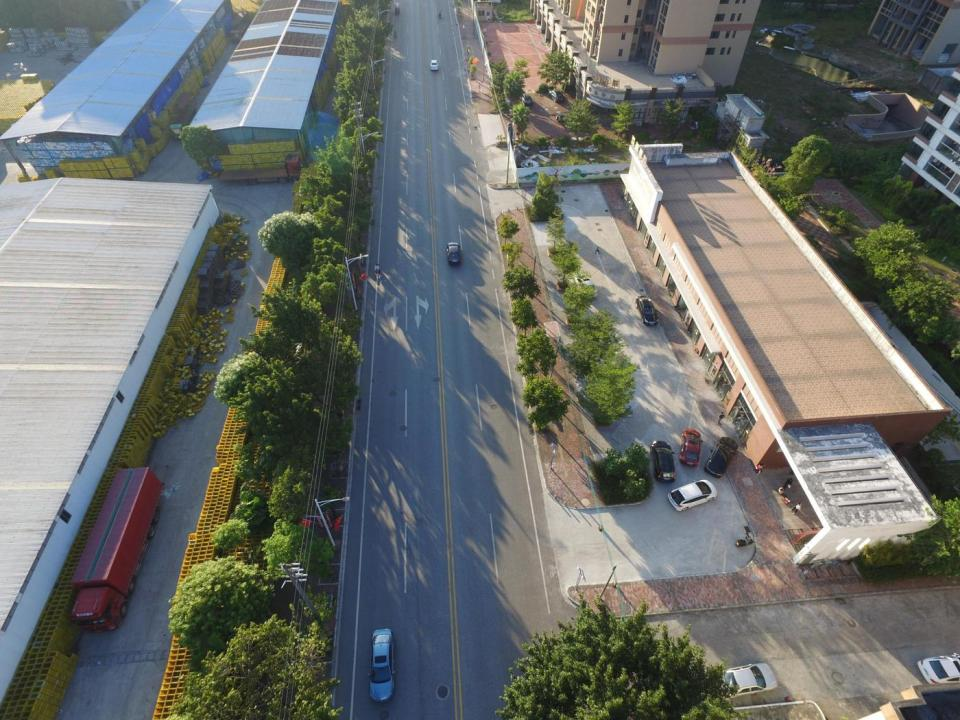car: (698, 662, 780, 700), (366, 627, 397, 703), (666, 480, 718, 512), (703, 436, 738, 478), (917, 650, 960, 684), (650, 439, 678, 482), (679, 428, 703, 468), (635, 295, 659, 326), (573, 272, 599, 300), (445, 241, 462, 266), (548, 88, 564, 103), (520, 93, 533, 106), (429, 60, 440, 70)
truck: (68, 466, 166, 636), (218, 154, 303, 185), (169, 90, 196, 142), (229, 9, 252, 44)
